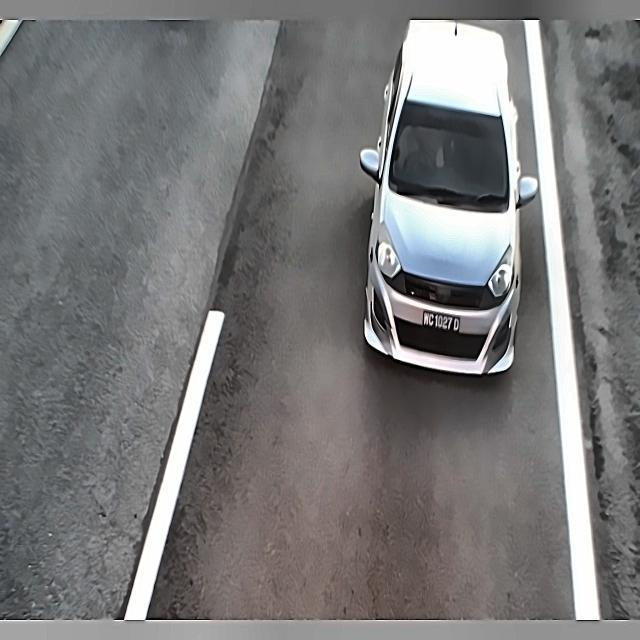car: (419, 305, 468, 340)
